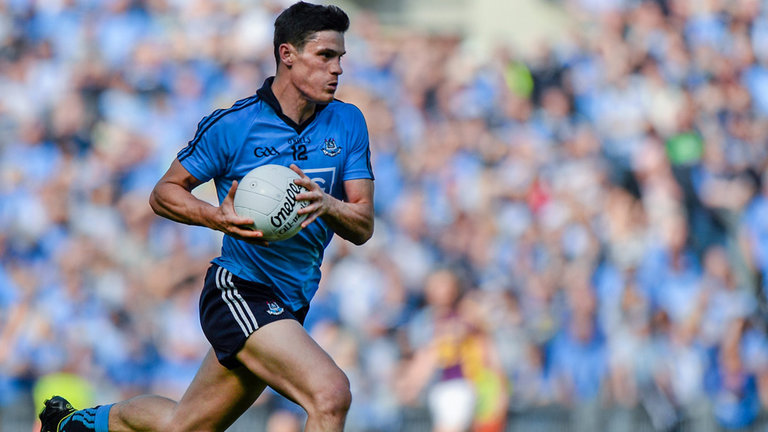ball: (230, 161, 309, 240)
player: (182, 4, 360, 431)
